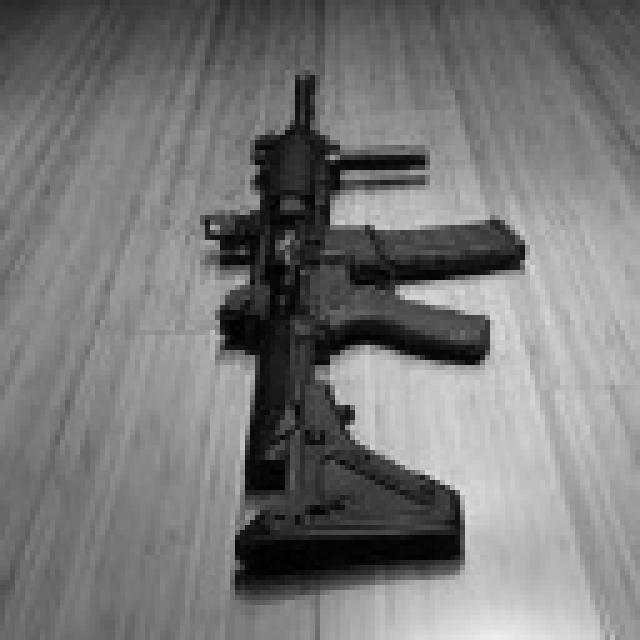Rifle: (179, 41, 557, 620)
